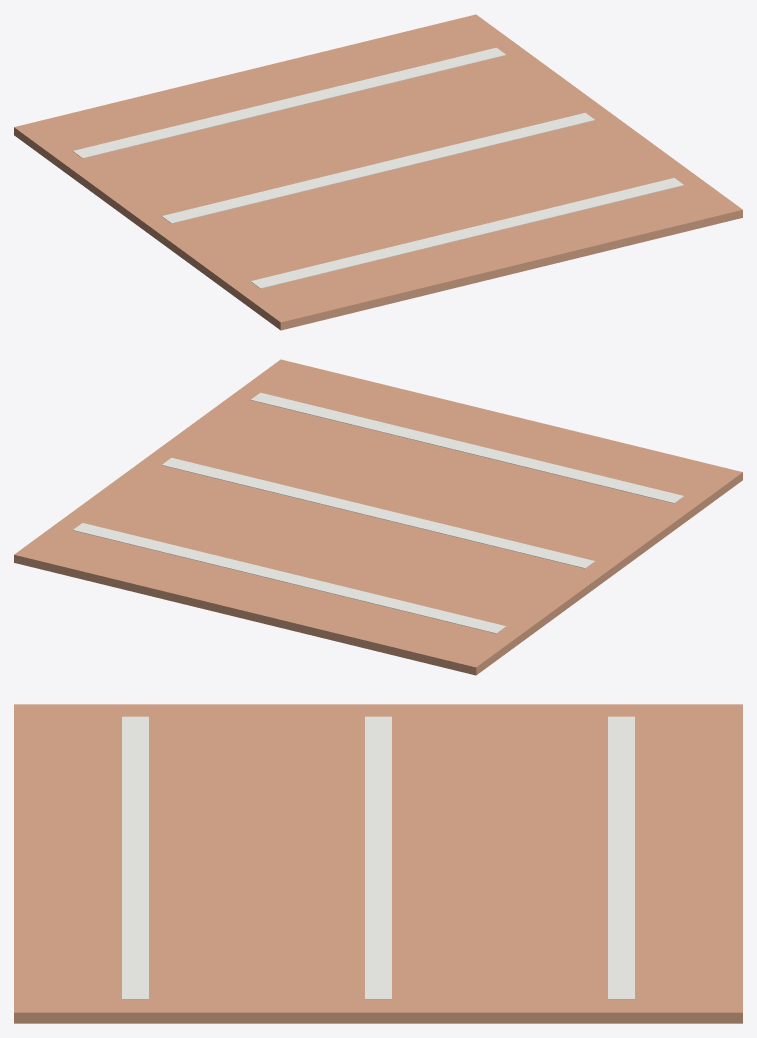
The model's file is tennis-club-and-courts-court-surface-tile-clay-c7fcadfc__33605.glb.
3 renders of one model, top to bottom at view 1: azimuth 30°, elevation 25°; view 2: azimuth 150°, elevation 25°; view 3: azimuth 270°, elevation 25°, orthographic. The views are drawn at different scales.
Parts seen in each view (by area): view 1: court-surface-tile-clay; view 2: court-surface-tile-clay; view 3: court-surface-tile-clay.
Boxes of the visible parts, left/top/right/bottom form: court-surface-tile-clay: left=14, top=14, right=742, bottom=330; court-surface-tile-clay: left=14, top=359, right=742, bottom=675; court-surface-tile-clay: left=14, top=704, right=742, bottom=1023.
Bounding box in the file's own units: 6 × 0.1062 × 6.
